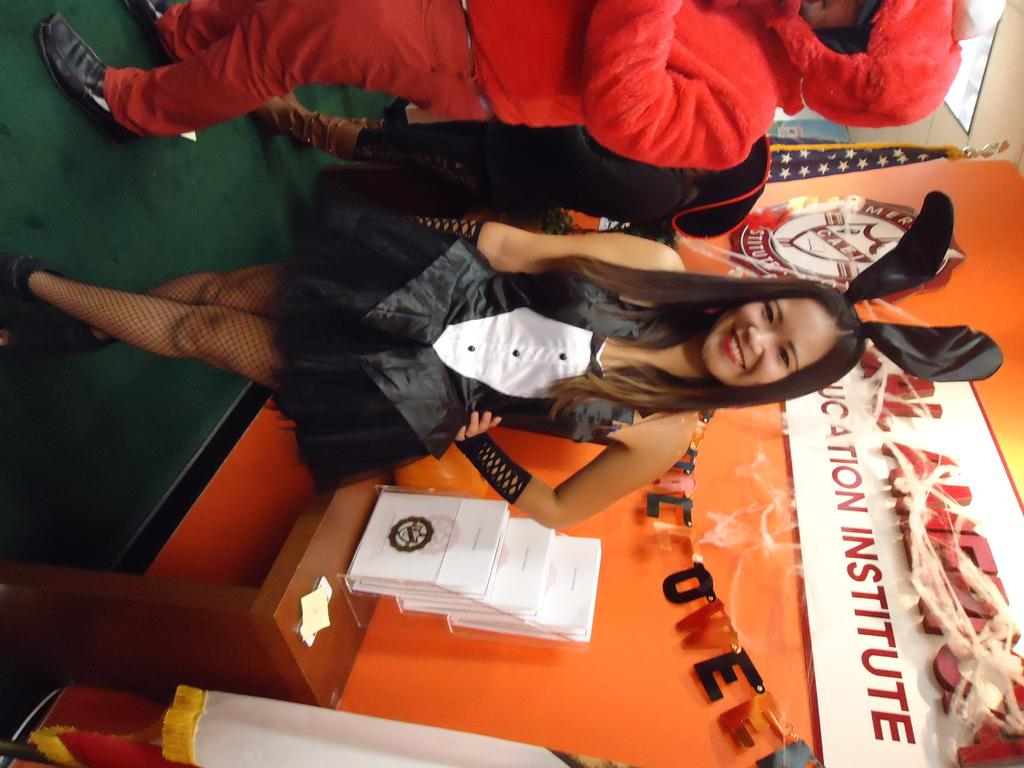Sem Máscara: (700, 290, 831, 384), (798, 0, 861, 27)
